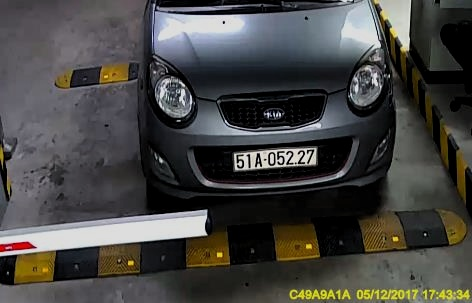plate: (232, 145, 317, 170)
